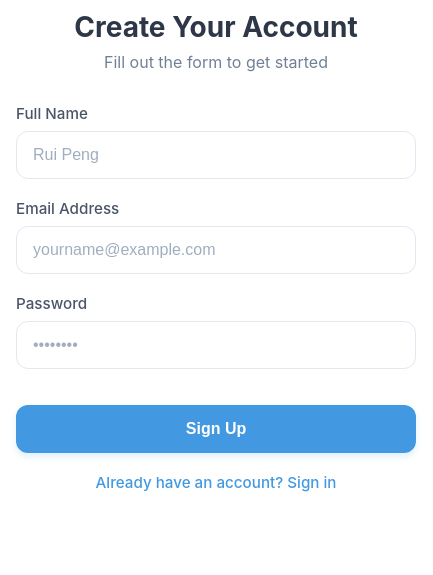
Test case: SignUp Component › testing when fail to handleSubmit and display errors
Type "test@gmail.com" into the field with placeholder "yourname@example.com" at (216,250), box x1=16 y1=226 x2=416 y2=274
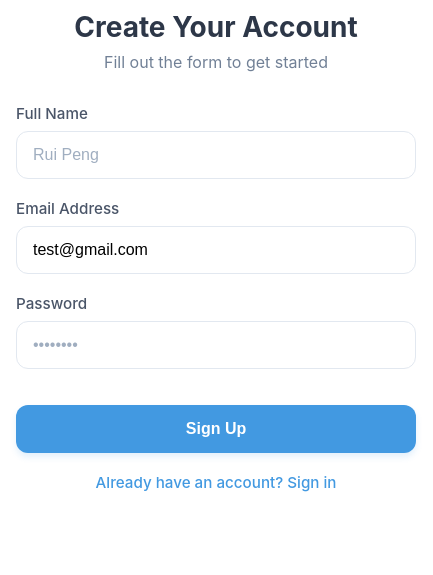
Type "123456" into the password field with placeholder "••••••••" at (216,345), box x1=16 y1=321 x2=416 y2=369
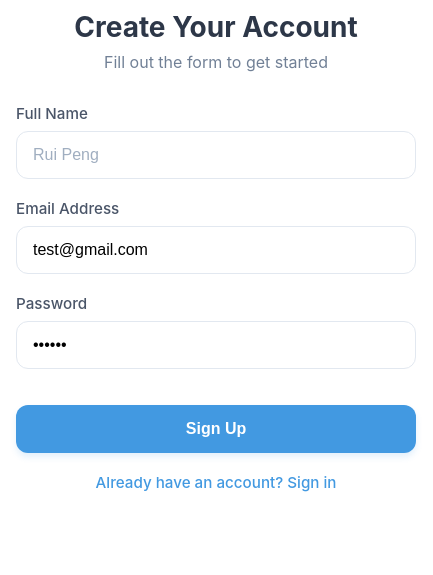
Type "Alex Green" into the field with placeholder "Rui Peng" at (216,155), box x1=16 y1=131 x2=416 y2=179
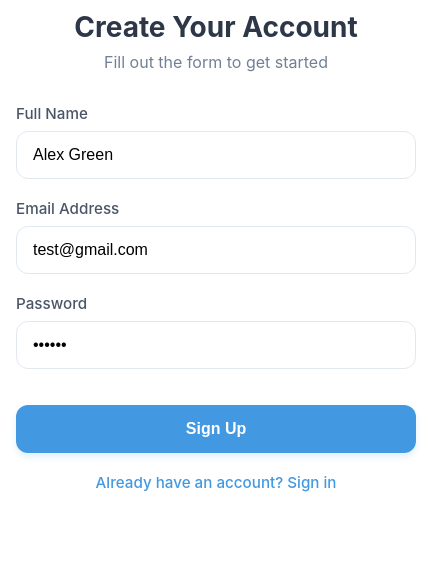
Click the button "Sign Up" at (216,429), box x1=16 y1=405 x2=416 y2=453
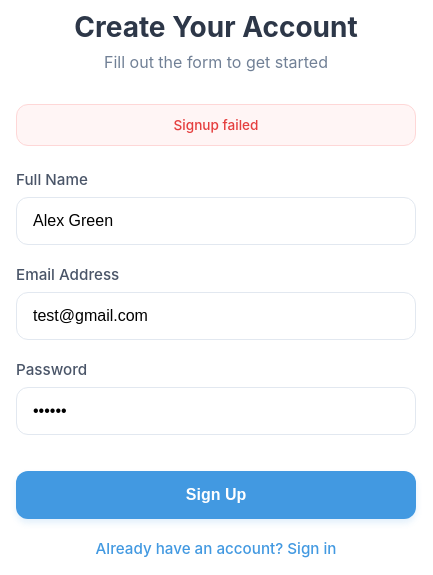
Result: the text "Signup failed" is shown at x1=16 y1=104 x2=416 y2=146
